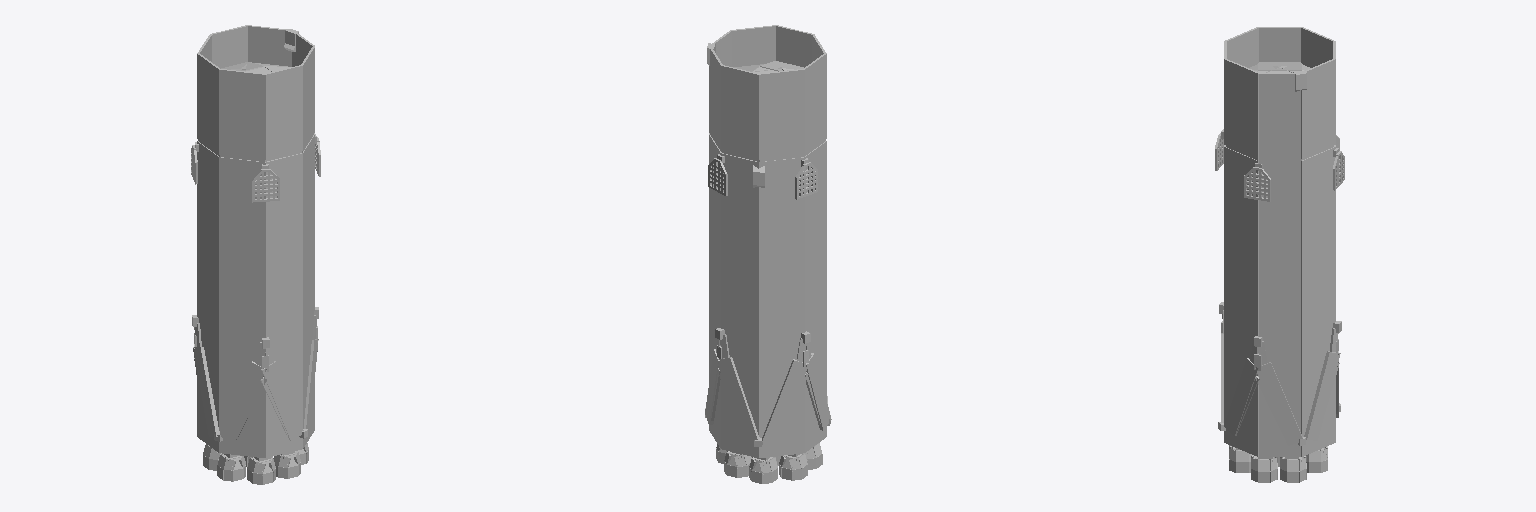
The model's file is falcon9.obj.
3 views of the same model, side by side, from view 1: azimuth 30°, elevation 25°; view 2: azimuth 150°, elevation 25°; view 3: azimuth 270°, elevation 25° (orthographic).
Parts seen in each view (by area): view 1: Rocket; view 2: Rocket; view 3: Rocket.
Boxes of the visible parts, x1,y1,x2,y2 form: Rocket: [191, 25, 320, 484]; Rocket: [705, 25, 831, 483]; Rocket: [1215, 27, 1344, 482].
Size of the model in its own units: 3.31 by 11.75 by 3.38.